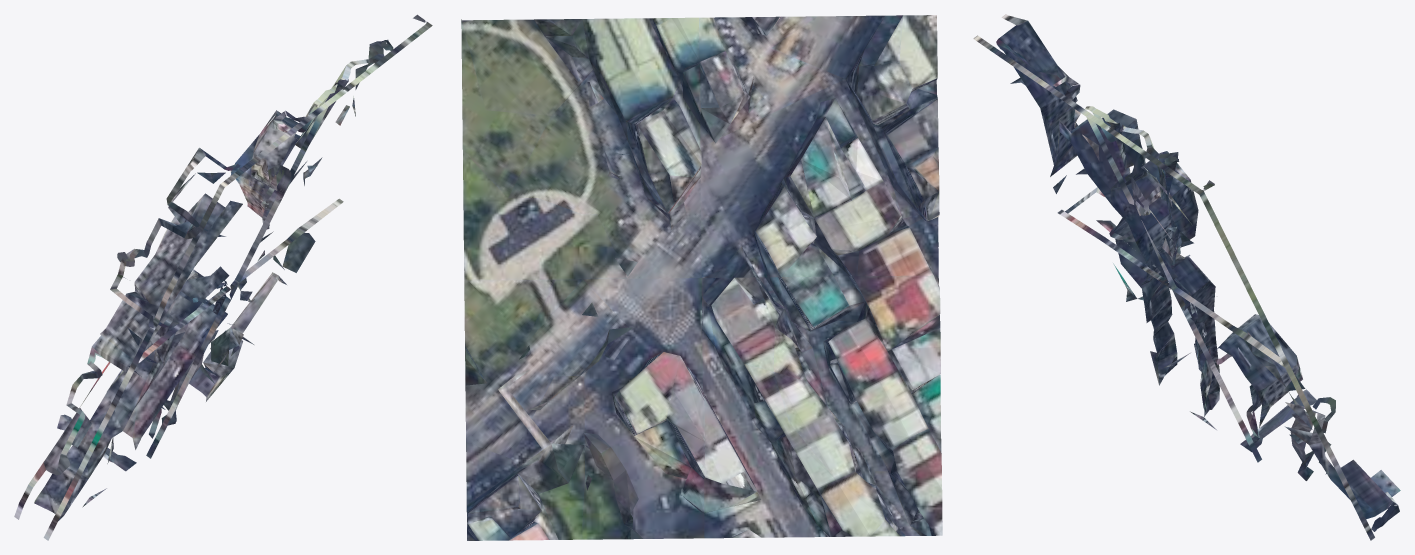
The picture shows the model from 3 angles, left to right: view 1: azimuth 30°, elevation 25°; view 2: azimuth 150°, elevation 25°; view 3: azimuth 270°, elevation 25°; orthographic projection. The views are drawn at different scales.
Size of the model in its own units: 158 by 145 by 137.
2 materials, 2 textured.
